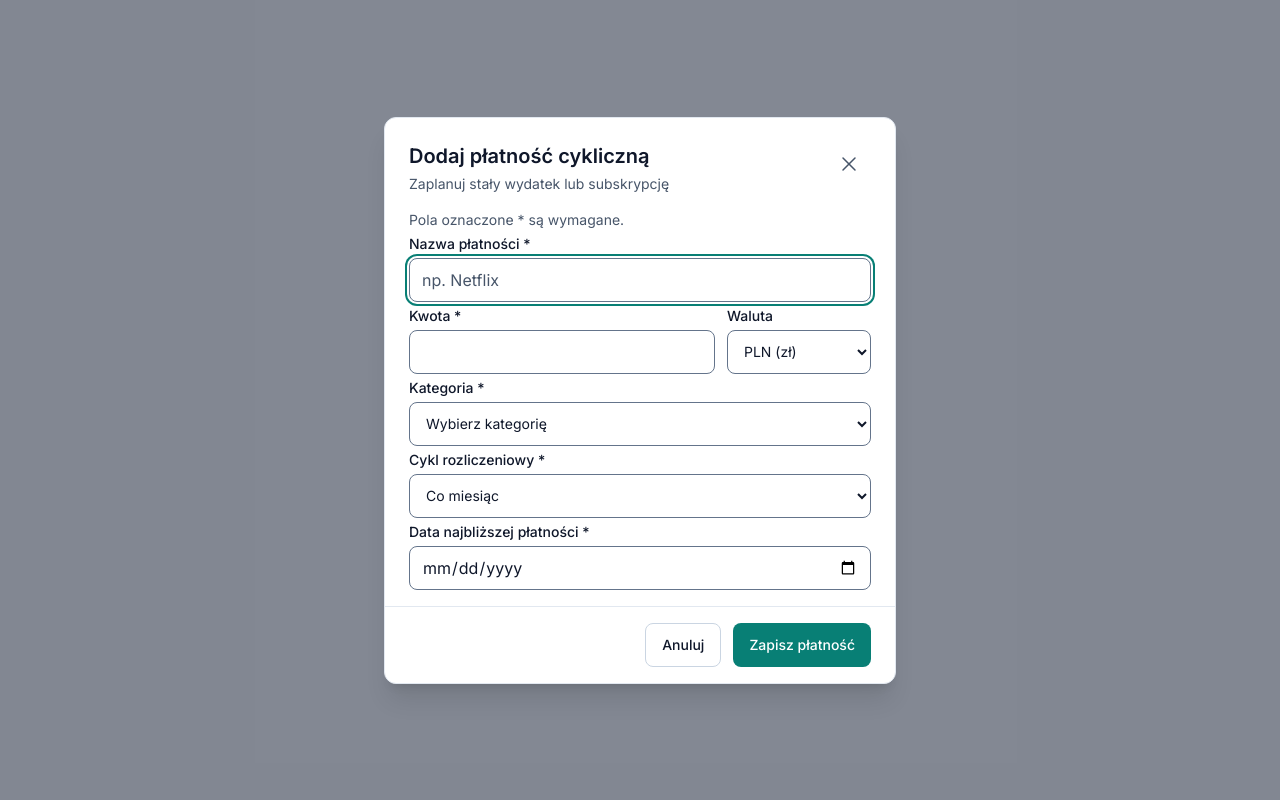
Test case: RecurringPaymentDialog › shows the 404 for someone else's category in the dialog and keeps the values
Type "Netflix" into the field labelled "Nazwa płatności *" at (640,280), box [409, 258, 871, 302]
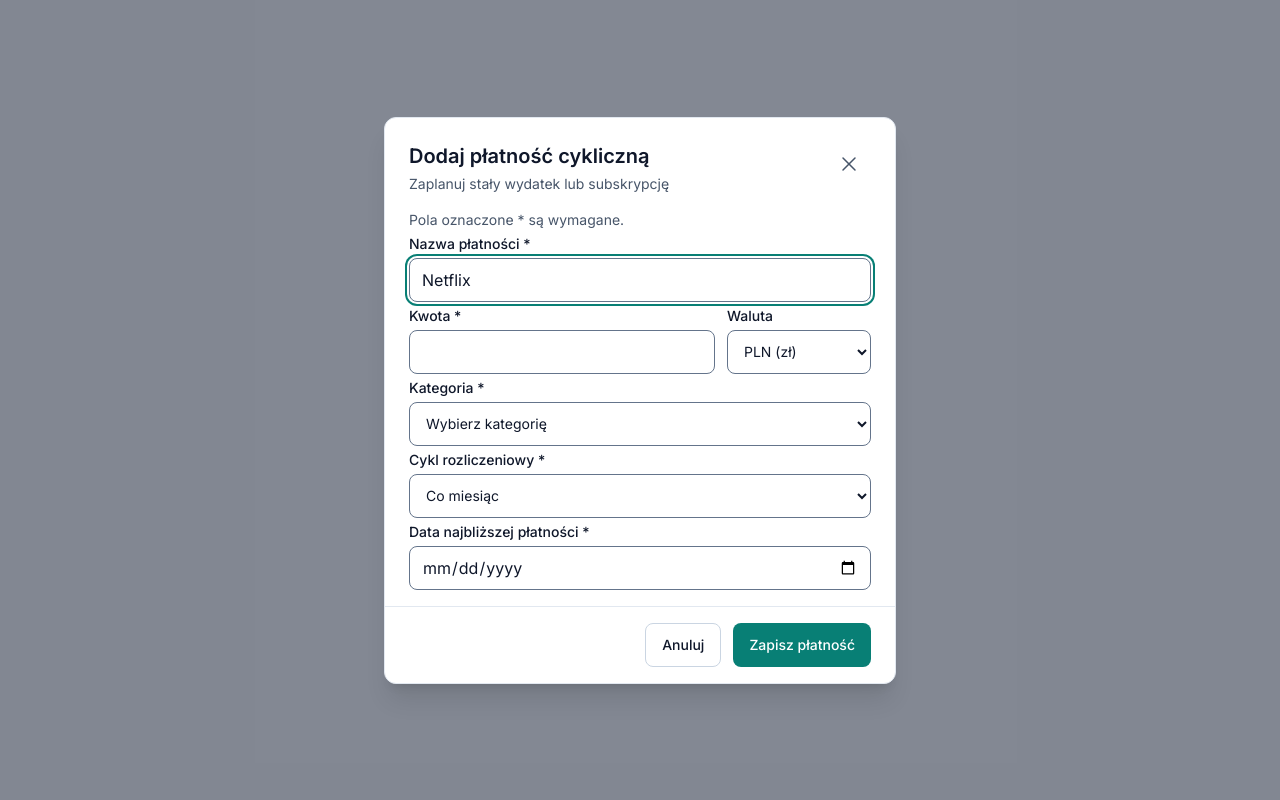
Type "43" into the field labelled "Kwota *" at (562,352), box [409, 330, 715, 374]
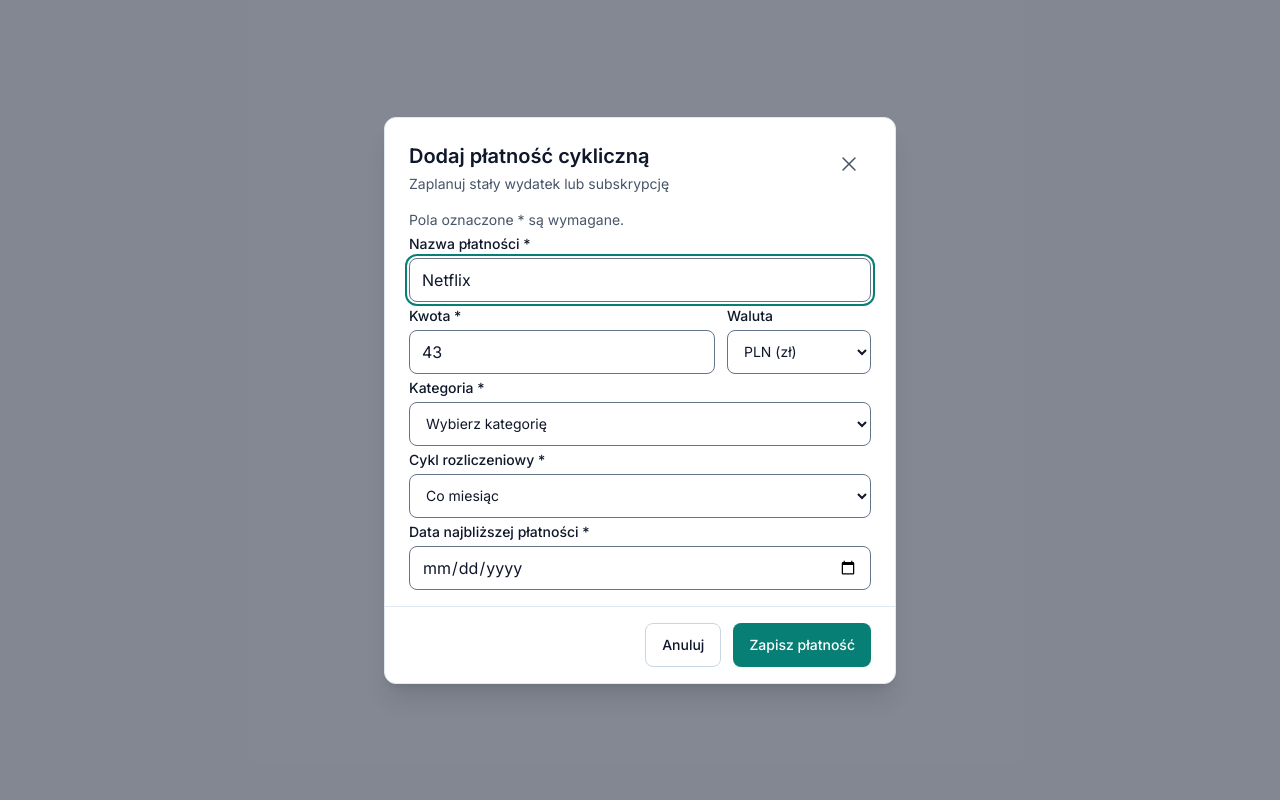
Select "Rozrywka" in the dropdown labelled "Kategoria *" at (640,424), box [409, 402, 871, 446]
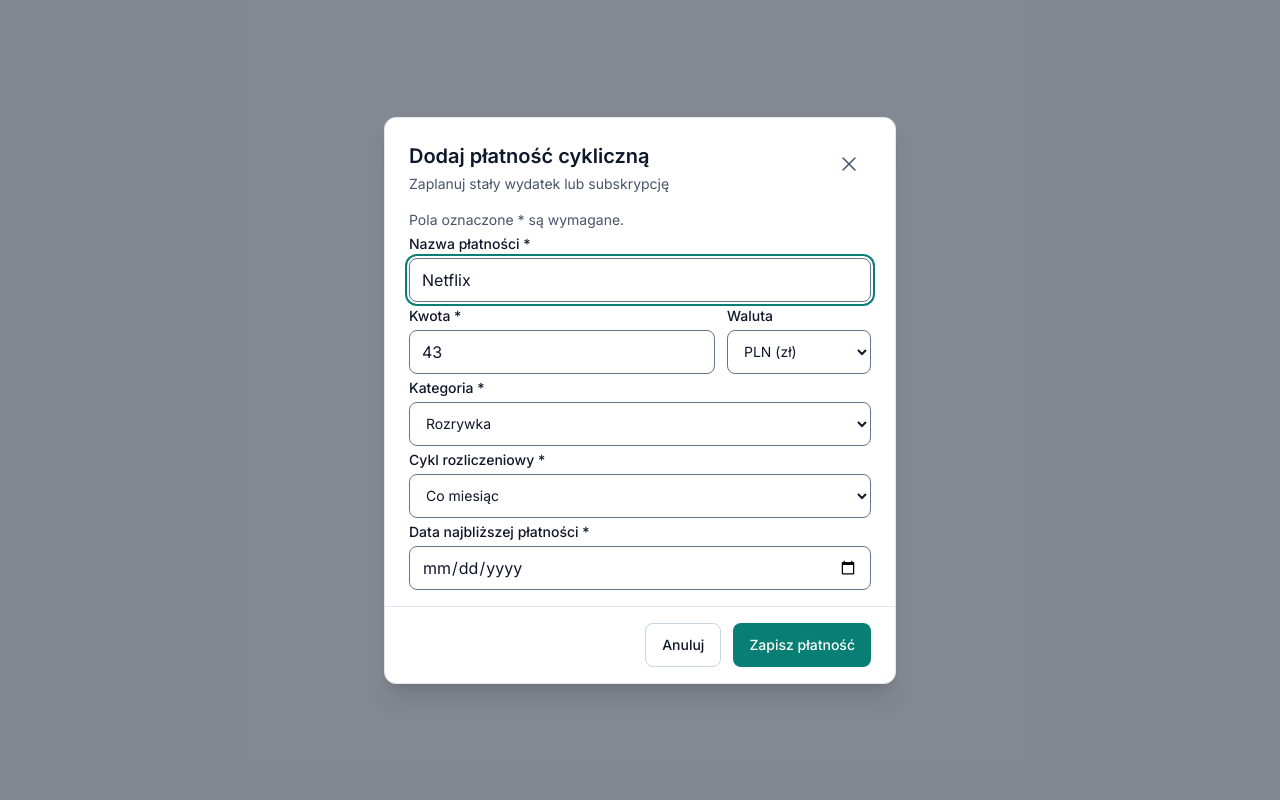
Type "2026-12-01" into the date field labelled "Data najbliższej płatności *" at (640,568), box [409, 546, 871, 590]
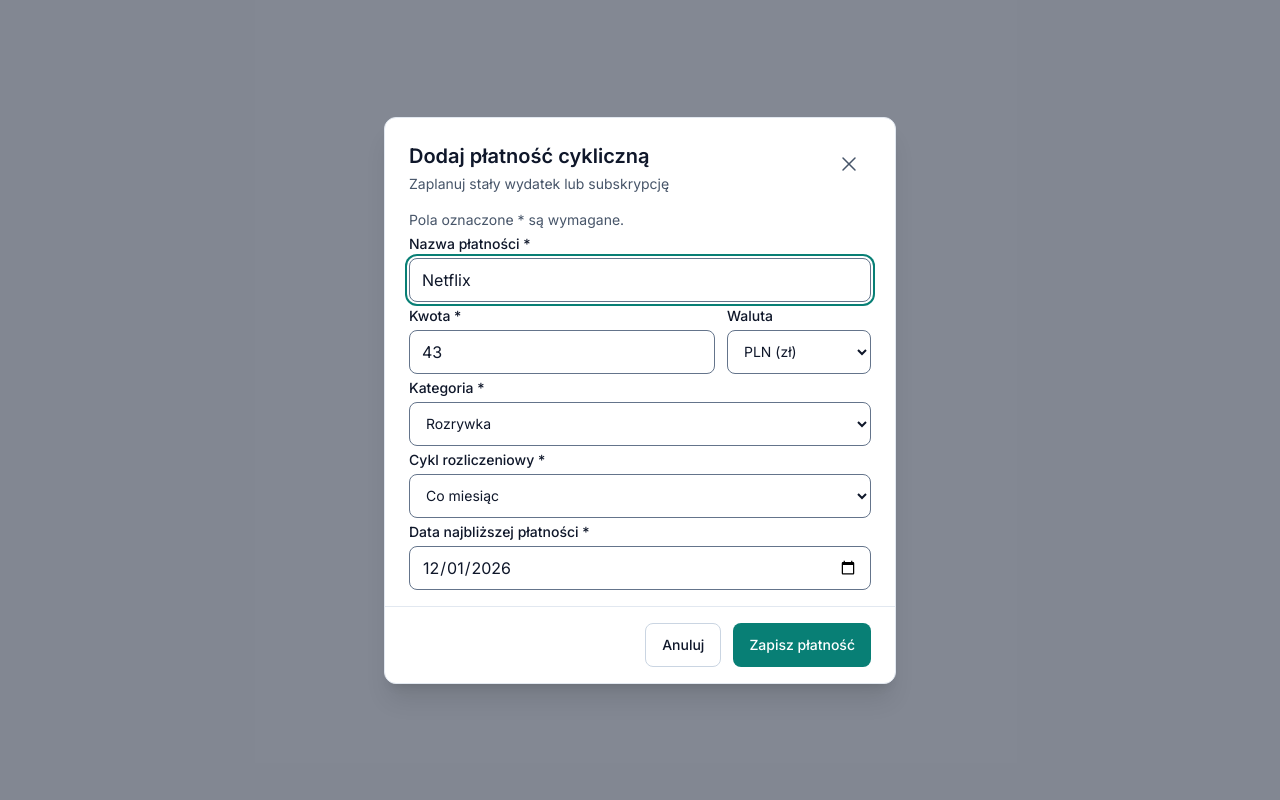
Click the button "Zapisz płatność" at (802,644), box [733, 622, 871, 666]
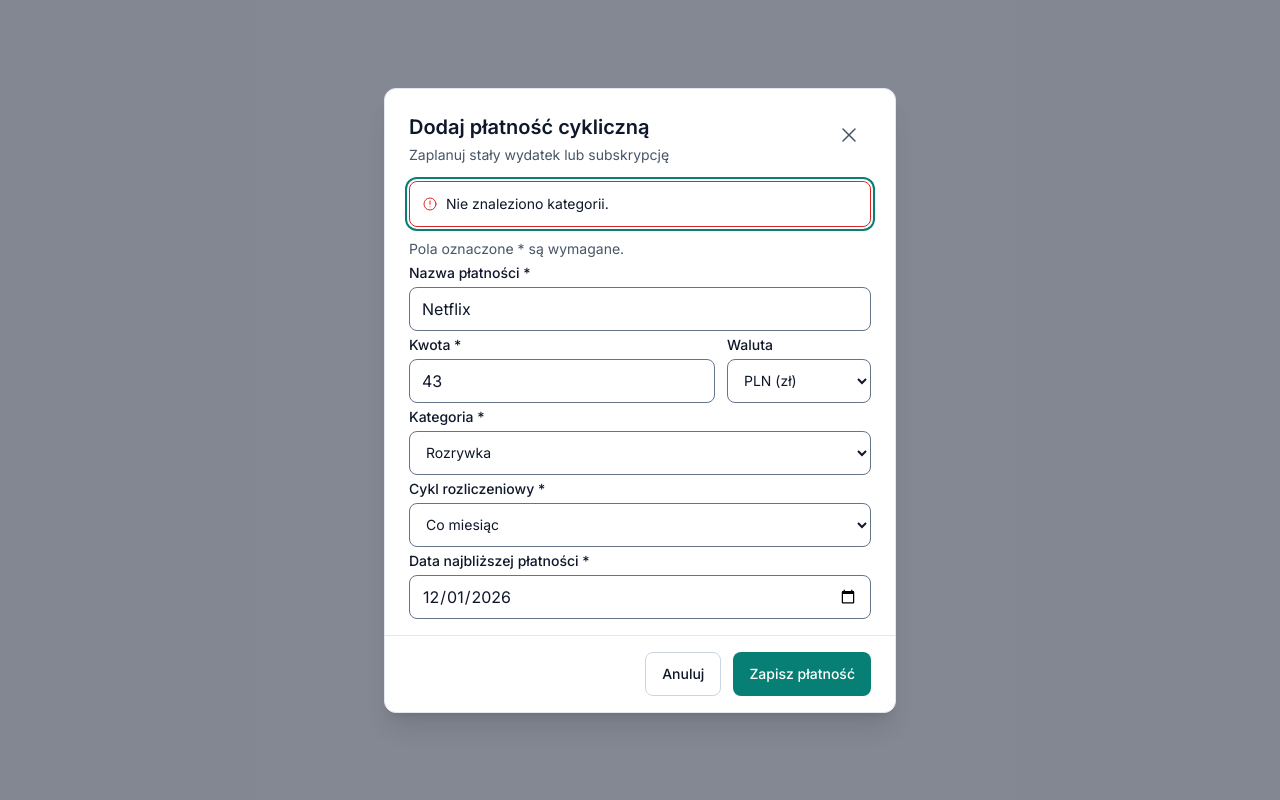
Expected: the message reads "Nie znaleziono kategorii.", [446, 194, 609, 212]
